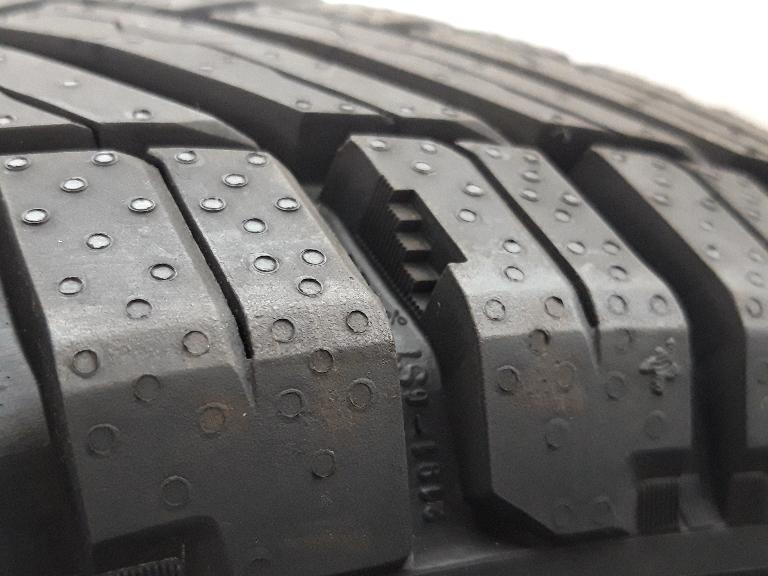temoin:100: (346, 165, 478, 335)
